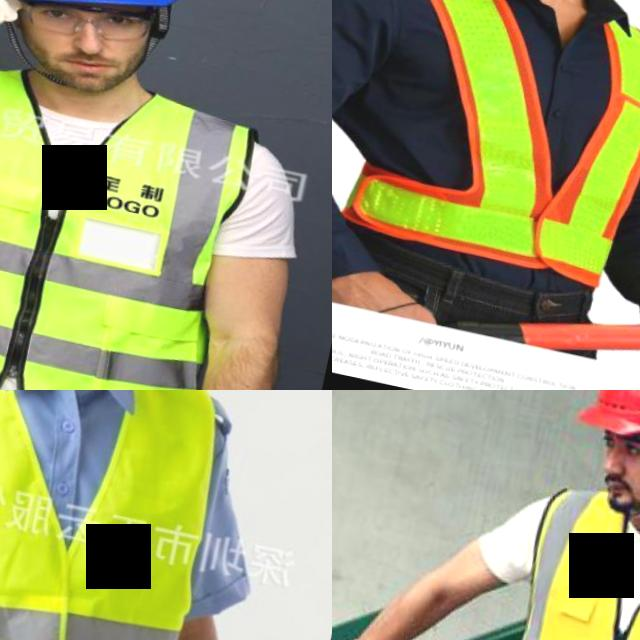vest: (332, 0, 640, 306), (0, 57, 242, 390), (0, 390, 246, 640), (481, 480, 640, 640)
